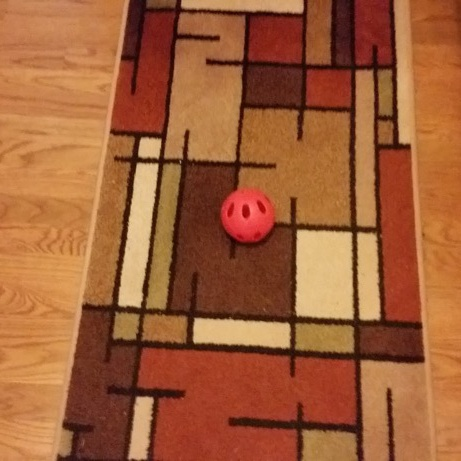ball: (216, 183, 279, 245)
